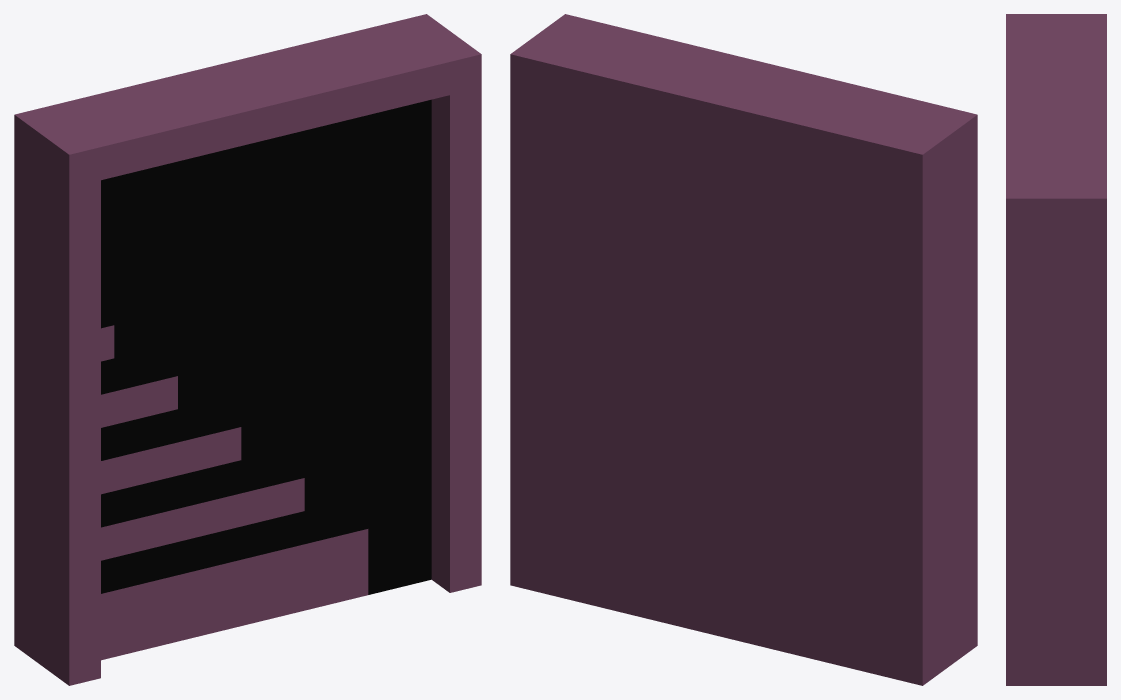
Rendered from dungeon_c_b_entrance_b_flipped.obj.
3 views of the same model, side by side, from view 1: azimuth 30°, elevation 25°; view 2: azimuth 150°, elevation 25°; view 3: azimuth 270°, elevation 25° (orthographic). The views are drawn at different scales.
Bounding box in the file's own units: 1.3 × 1.6 × 0.3.
Materials: 1 (1 with a texture image).
